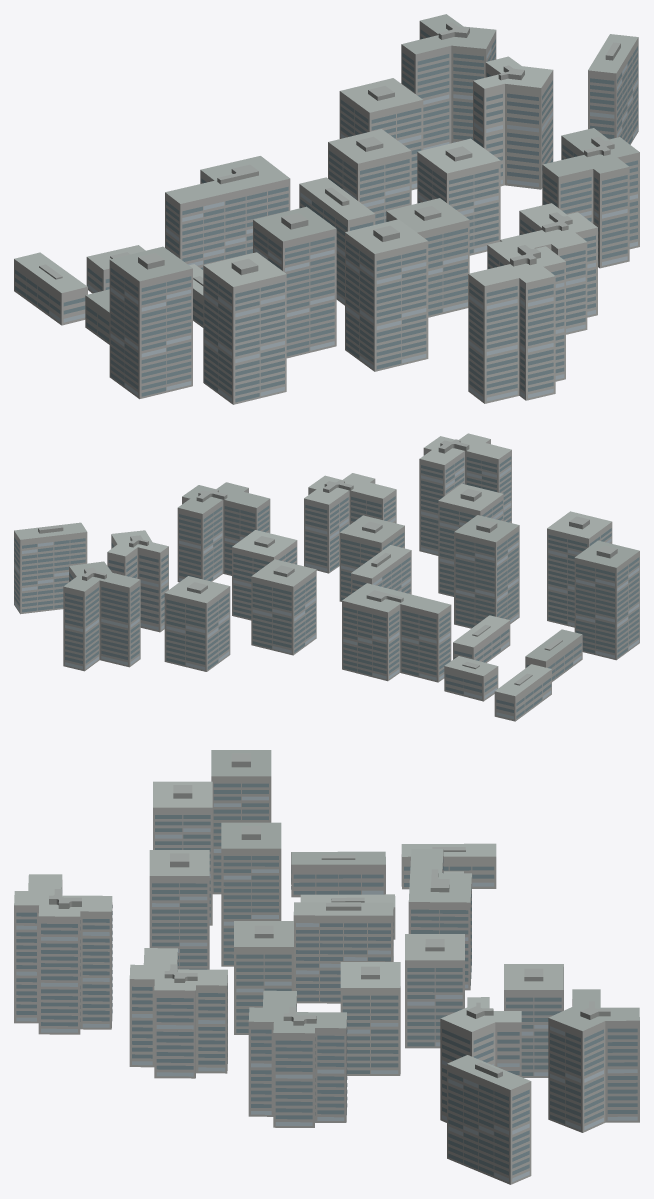
Rendered from apt-a13380803.glb.
3 renders of one model, top to bottom at view 1: azimuth 30°, elevation 25°; view 2: azimuth 150°, elevation 25°; view 3: azimuth 270°, elevation 25°, orthographic. The views are drawn at different scales.
Parts seen in each view (by area): view 1: apt-a13380803; view 2: apt-a13380803; view 3: apt-a13380803.
Boxes of the visible parts, x1,y1,x2,y2 form: apt-a13380803: (14, 14, 639, 404); apt-a13380803: (14, 433, 639, 721); apt-a13380803: (14, 750, 639, 1184).
Size of the model in its own units: 280 by 51 by 234.
